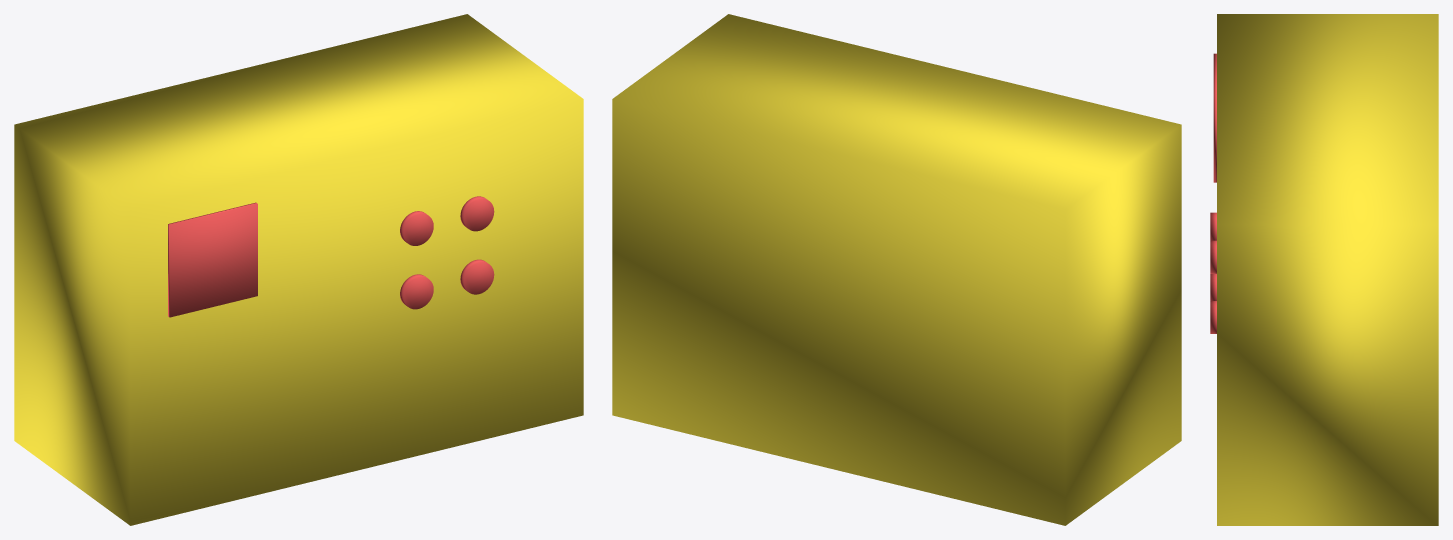
The model's file is lego.glb.
The picture shows the model from 3 angles, left to right: view 1: azimuth 30°, elevation 25°; view 2: azimuth 150°, elevation 25°; view 3: azimuth 270°, elevation 25°; orthographic projection. The views are drawn at different scales.
Visible parts, largest first — view 1: GiantLegoBox; view 2: GiantLegoBox; view 3: GiantLegoBox.
Part boxes in pixels (bbox=[...]): GiantLegoBox: bbox=[14, 14, 583, 525]; GiantLegoBox: bbox=[612, 14, 1181, 525]; GiantLegoBox: bbox=[1210, 14, 1438, 525].
Size of the model in its own units: 1.8 by 1.2 by 0.825.
